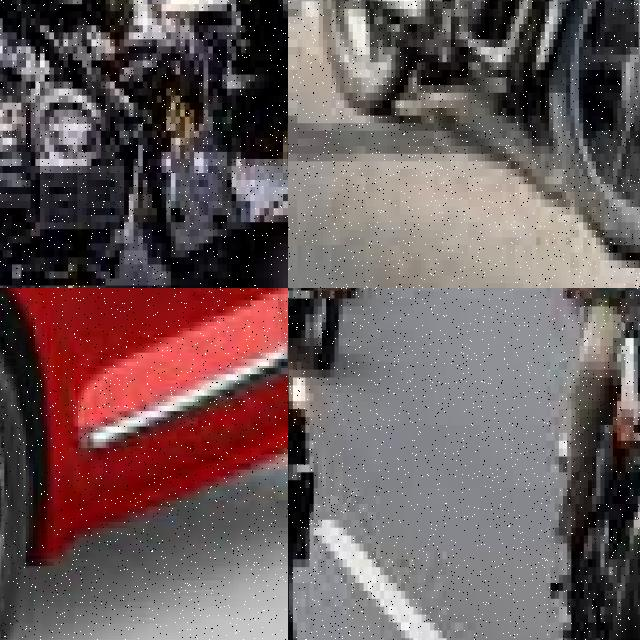bike: (288, 0, 640, 237), (0, 0, 288, 288), (550, 288, 640, 640), (288, 288, 388, 369)
car: (0, 288, 288, 640)
